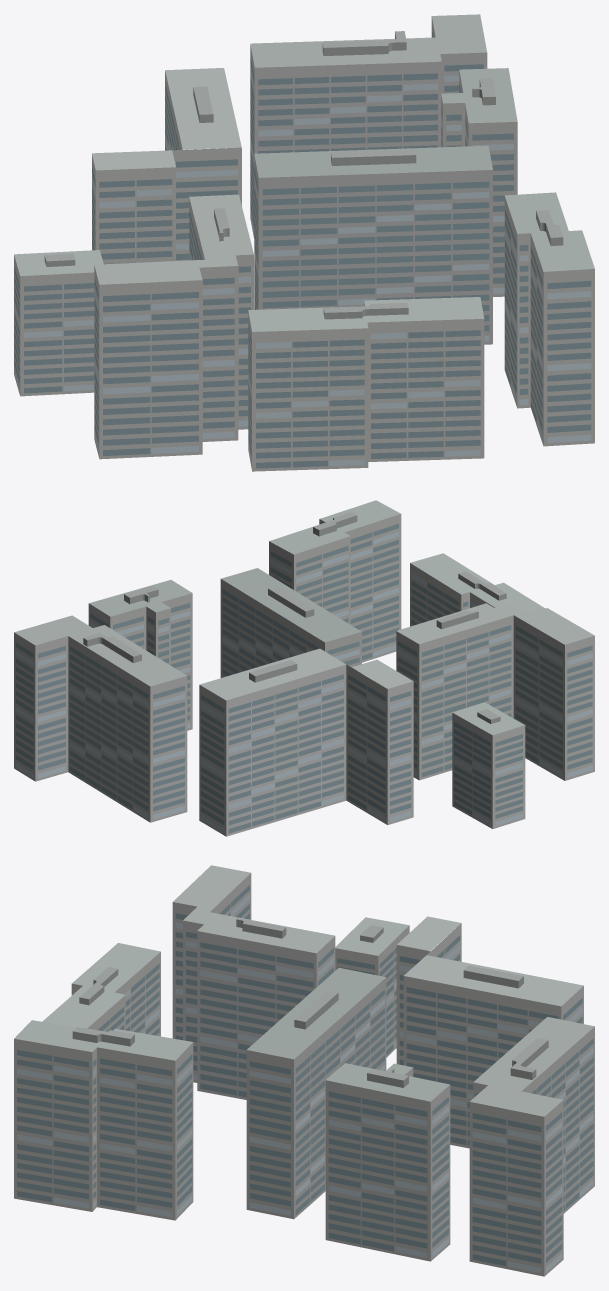
File: apt-a12109002.glb
3 views of the same model, one above another, from view 1: azimuth 30°, elevation 25°; view 2: azimuth 150°, elevation 25°; view 3: azimuth 270°, elevation 25° (orthographic). The views are drawn at different scales.
Visible parts, largest first — view 1: apt-a12109002; view 2: apt-a12109002; view 3: apt-a12109002.
Boxes of the visible parts, x1,y1,x2,y2 form: apt-a12109002: (14,14,594,471); apt-a12109002: (14,500,594,836); apt-a12109002: (14,865,594,1276).
Size of the model in its own units: 145 by 45 by 142.
